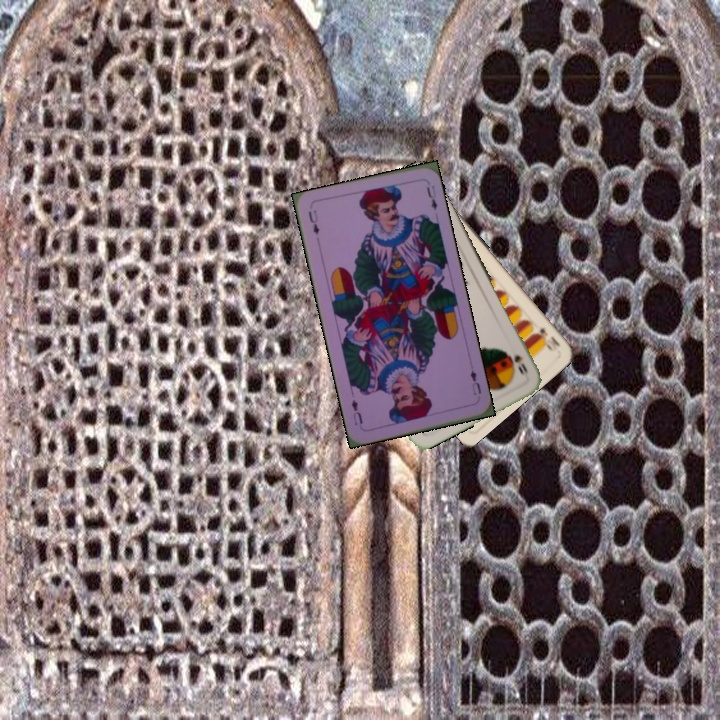E10: (531, 324, 563, 354)
EU: (466, 366, 484, 398), (304, 206, 322, 237)
SO: (510, 350, 531, 380)
